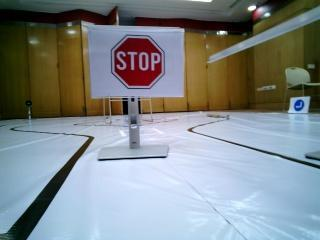stop: (94, 28, 186, 99)
